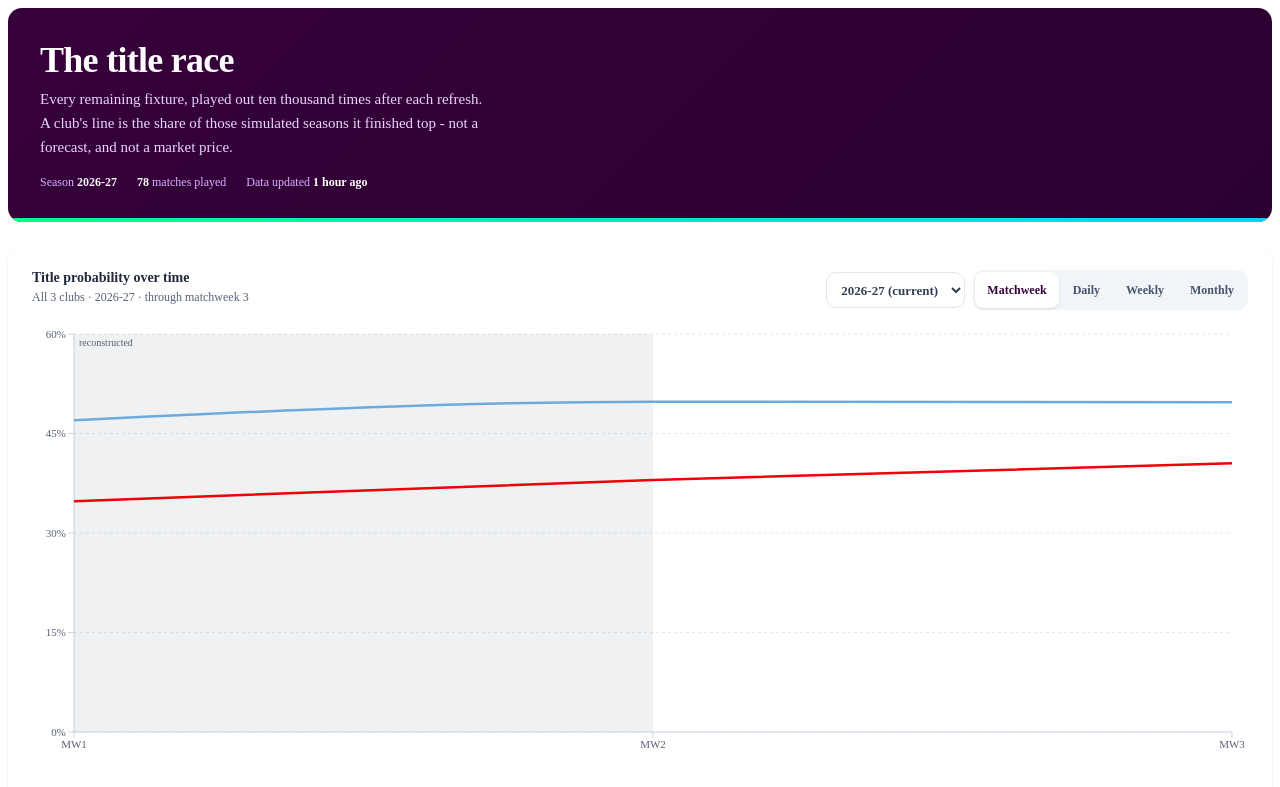
Test: TitleRace › offers the time resolutions and switches between them
Click the button "Monthly" at (1212, 290), box [1178,272,1246,308]
(page scrolled)
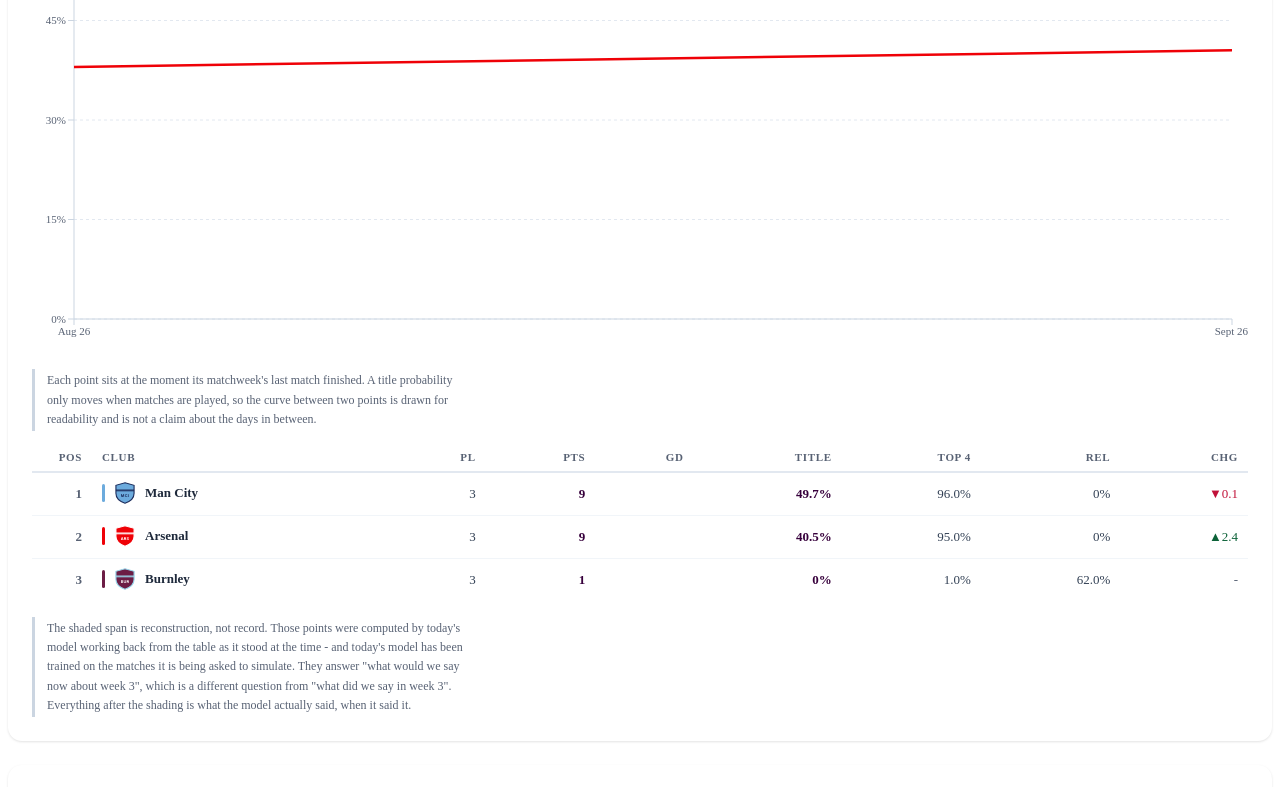
Check: the text "not a claim about the days in between" is shown, box [47,373,452,426]
